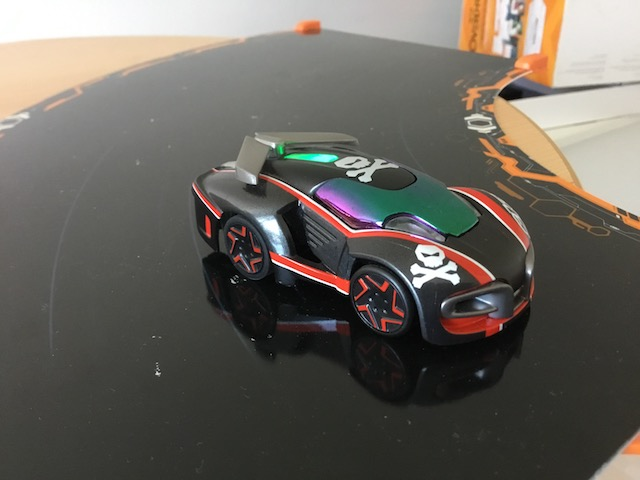car-red: (188, 125, 542, 350)
